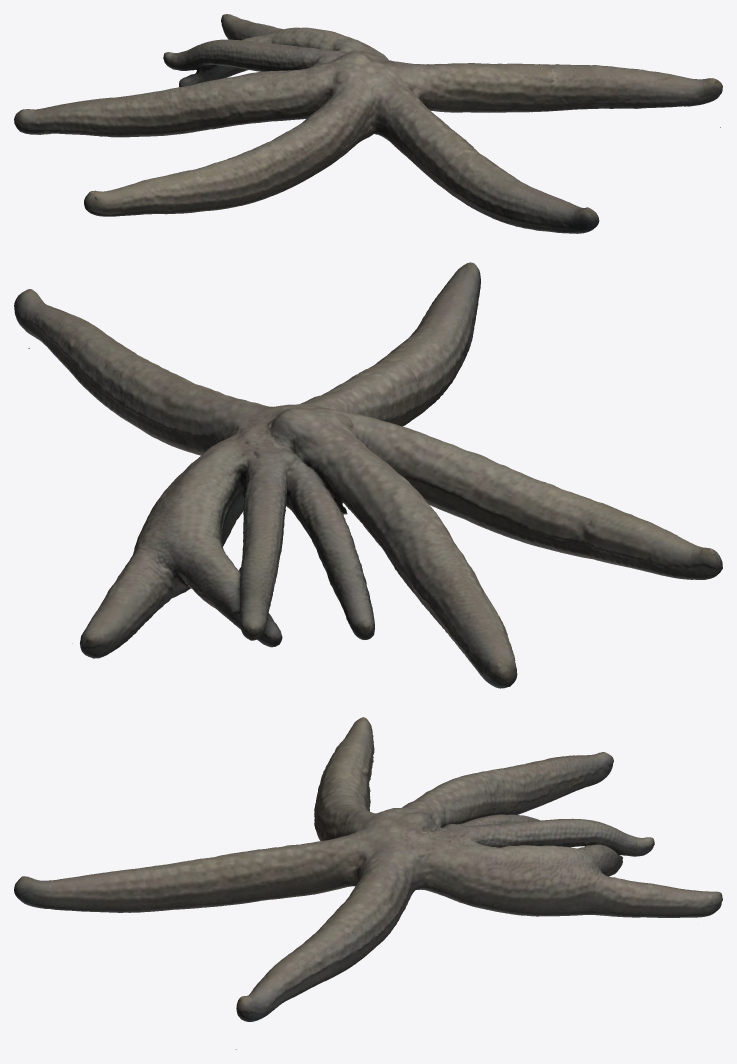
3 views of the same model, one above another, from view 1: azimuth 30°, elevation 25°; view 2: azimuth 150°, elevation 25°; view 3: azimuth 270°, elevation 25° (orthographic). The views are drawn at different scales.
Parts seen in each view (by area): view 1: orientacao; view 2: orientacao; view 3: orientacao.
Part boxes in pixels (x1,y1,x2,y2): orientacao: (14,14,722,233); orientacao: (14,262,722,688); orientacao: (14,717,722,1049).
Size of the model in its own units: 5256 by 772 by 5163.
Materials: 1 (1 with a texture image).
